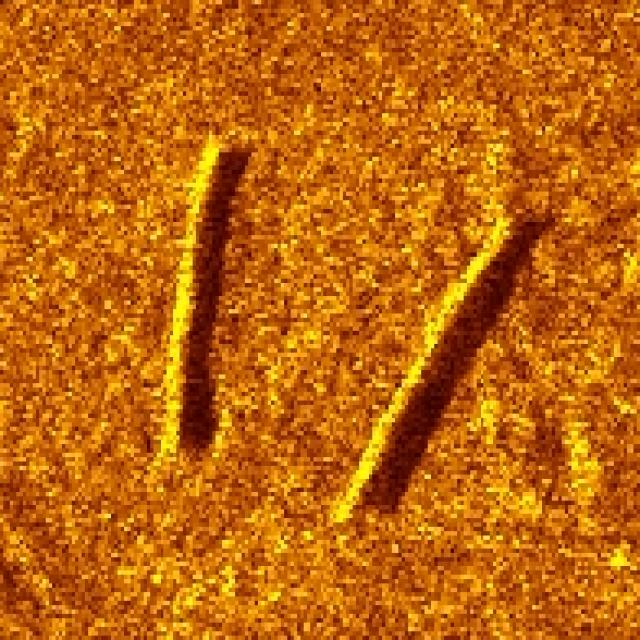other: (307, 157, 555, 566), (111, 79, 255, 522)
